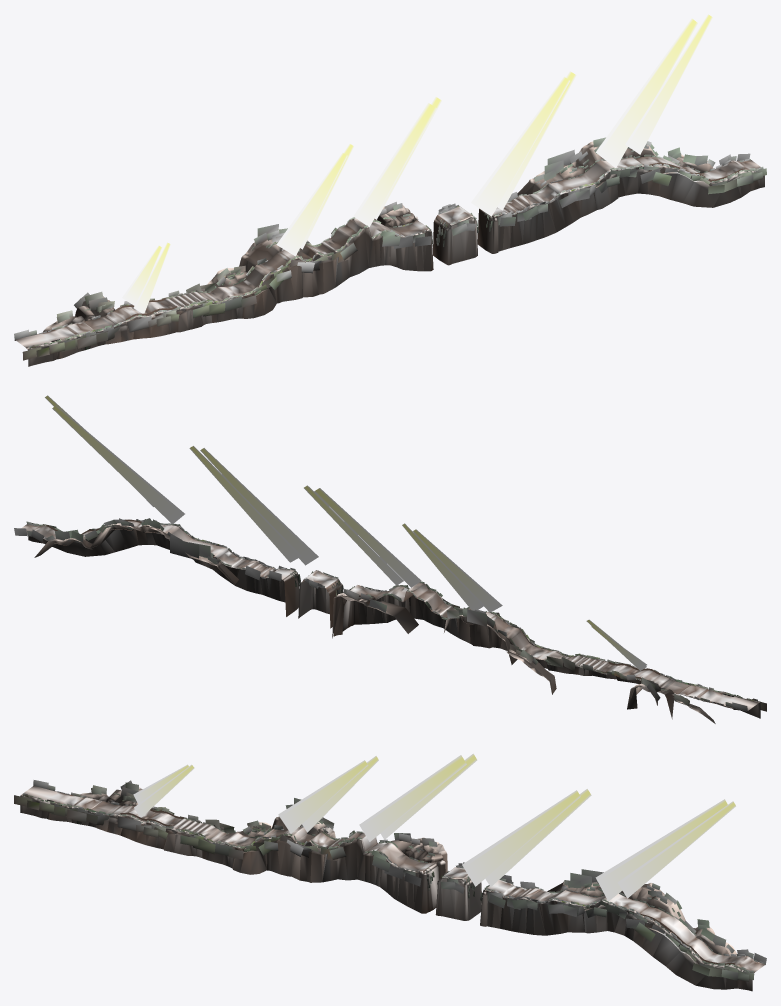
File: Forest_15.fbx
3 views of the same model, one above another, from view 1: azimuth 30°, elevation 25°; view 2: azimuth 150°, elevation 25°; view 3: azimuth 330°, elevation 25° (orthographic).
Visible parts, largest first — view 1: Mountain_01, Light_01, Tree_01, Ground_01; view 2: Mountain_01, Light_01, Tree_01, Ground_01; view 3: Mountain_01, Light_01, Tree_01, Ground_01.
Part boxes in pixels (x1,y1,x2,y2): Mountain_01: (27,141,764,366); Light_01: (122,14,712,313); Tree_01: (14,137,766,360); Ground_01: (15,156,760,348); Mountain_01: (28,523,760,723); Light_01: (45,395,646,670); Tree_01: (14,518,766,712); Ground_01: (21,521,758,711); Mountain_01: (20,787,753,991); Light_01: (133,753,735,901); Tree_01: (14,780,766,981); Ground_01: (22,786,765,972).
Size of the model in its own units: 46748 by 10518 by 3543.
